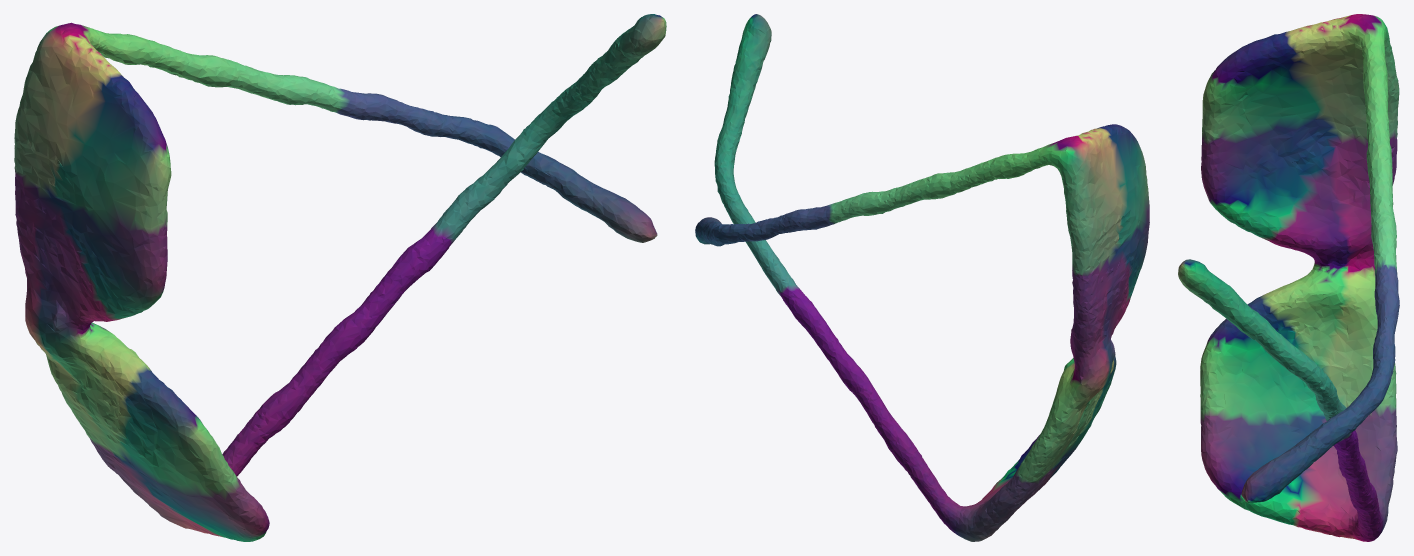
The model's file is glasses-3.off.obj.
The picture shows the model from 3 angles, left to right: view 1: azimuth 30°, elevation 25°; view 2: azimuth 150°, elevation 25°; view 3: azimuth 270°, elevation 25°; orthographic projection. The views are drawn at different scales.
Size of the model in its own units: 1.14 by 1.01 by 0.4331.
